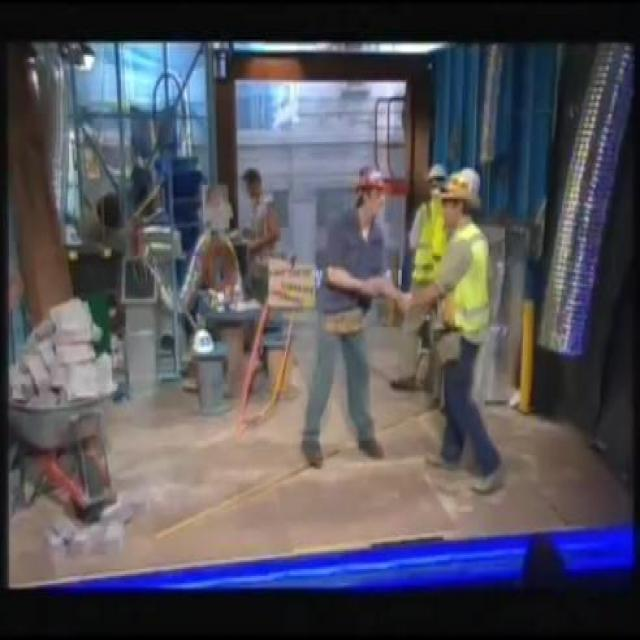Reflective-Jacket: (425, 220, 505, 370)
Safety-Helmet: (436, 160, 490, 217), (421, 153, 454, 192)
